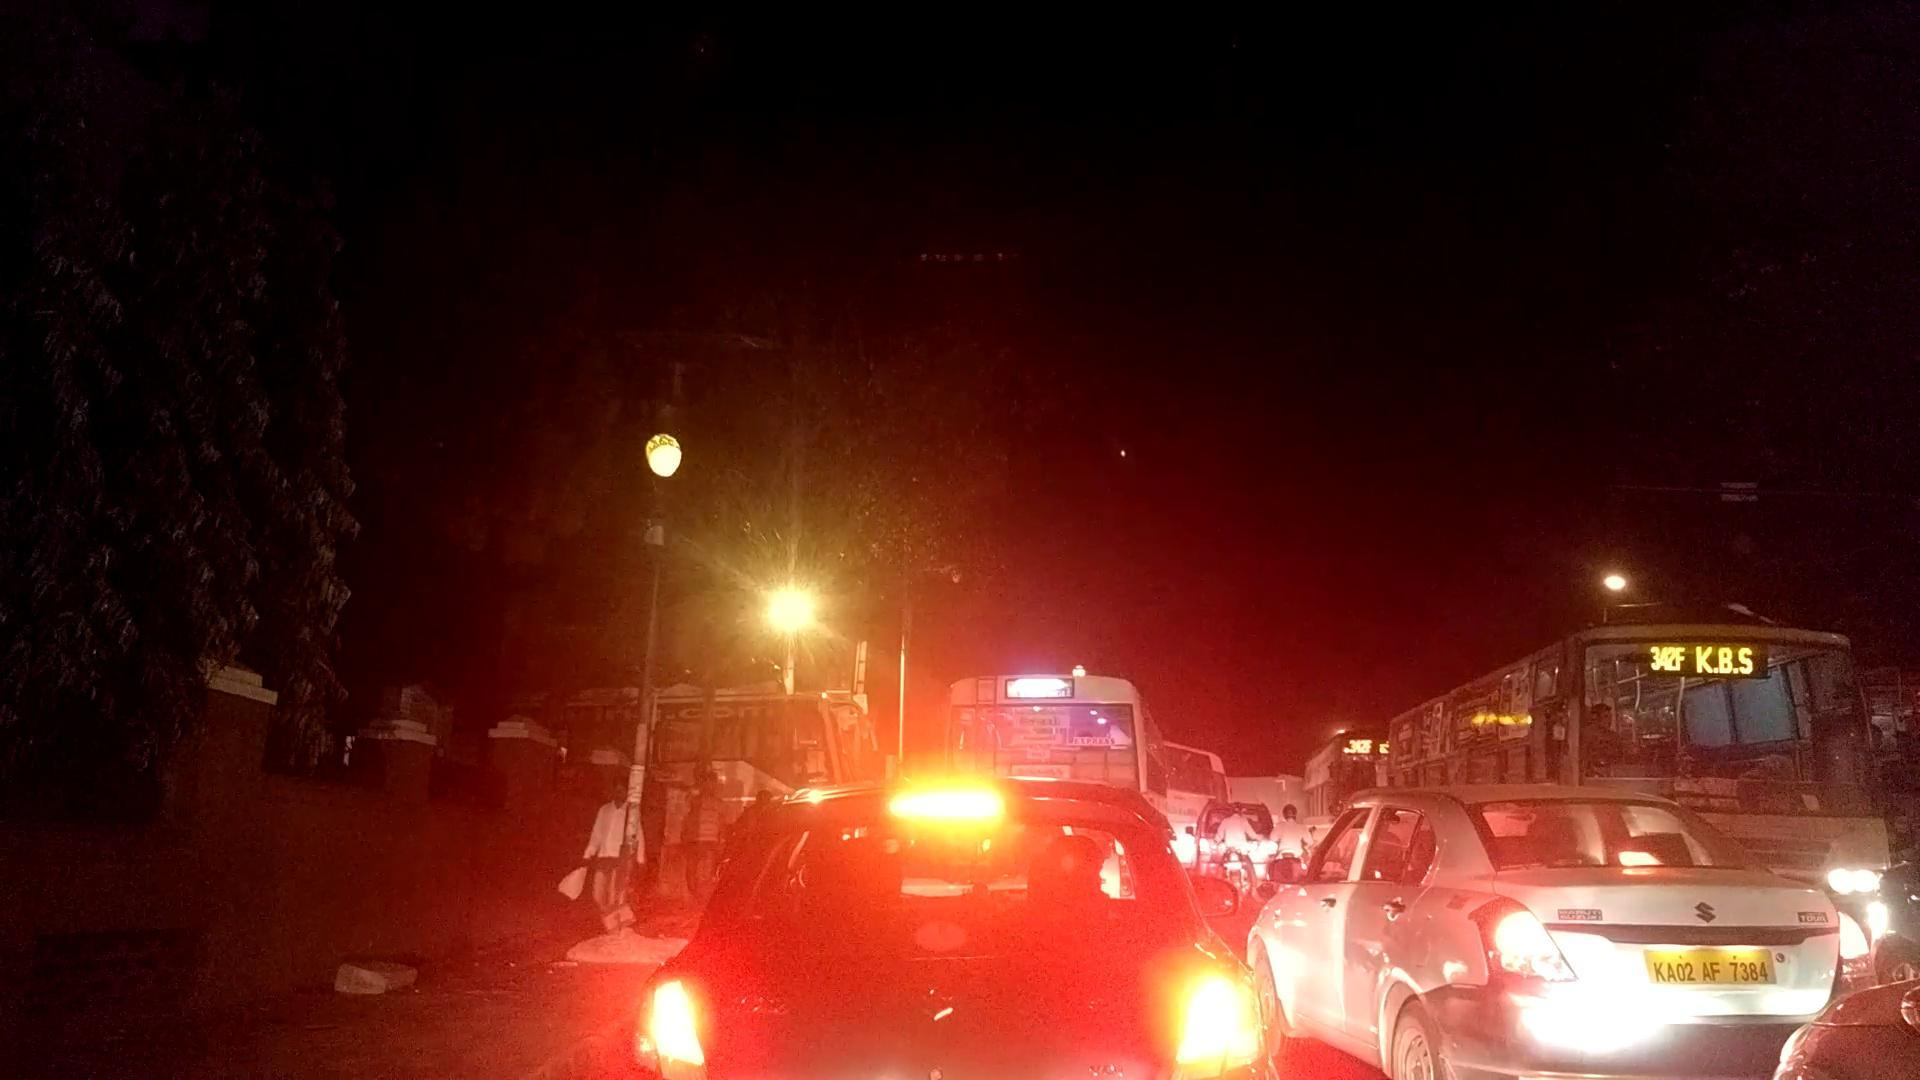on: (690, 483, 959, 764)
